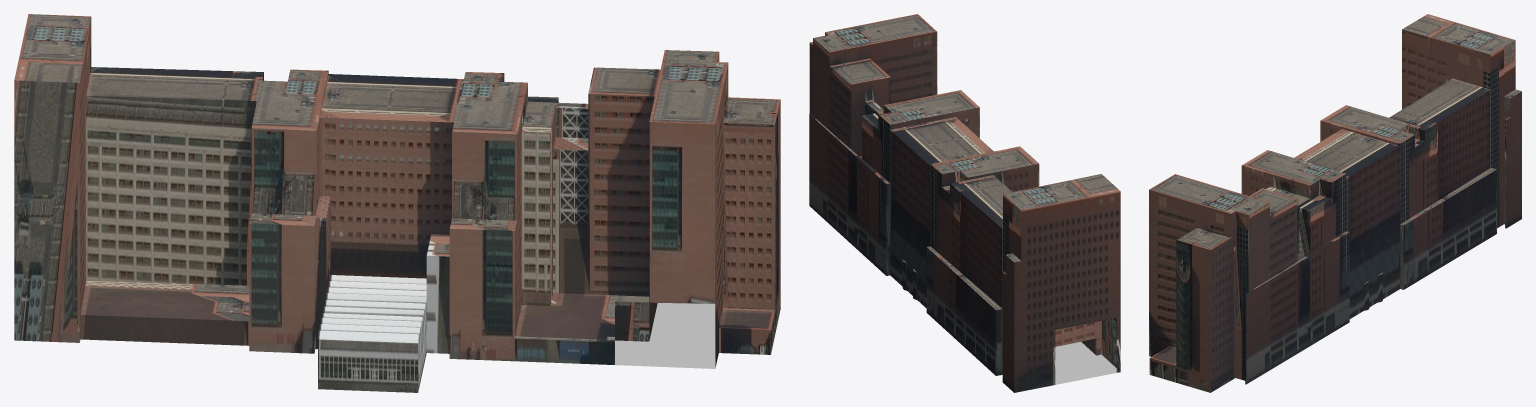
The model's file is {F99BAE3D-9A7C-439C-BEA7-3F562D105BFC}.dae.
The picture shows the model from 3 angles, left to right: view 1: azimuth 30°, elevation 25°; view 2: azimuth 150°, elevation 25°; view 3: azimuth 270°, elevation 25°; orthographic projection. The views are drawn at different scales.
Bounding box in the file's own units: 144 × 113 × 59.04.
Materials: 18 (17 with a texture image).
